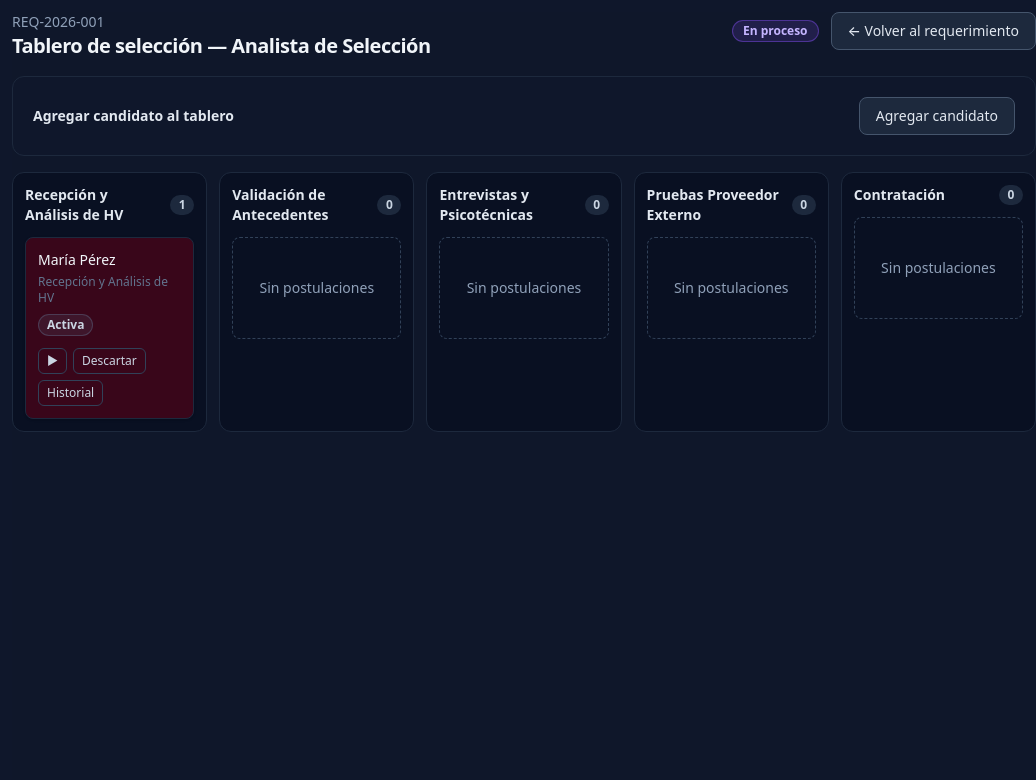
tablero Kanban (panel de historial) › abrir el historial pinta las entradas del fixture con antes → después
Click the button "Historial". click: [71, 393]
box: left=38, top=380, right=103, bottom=406
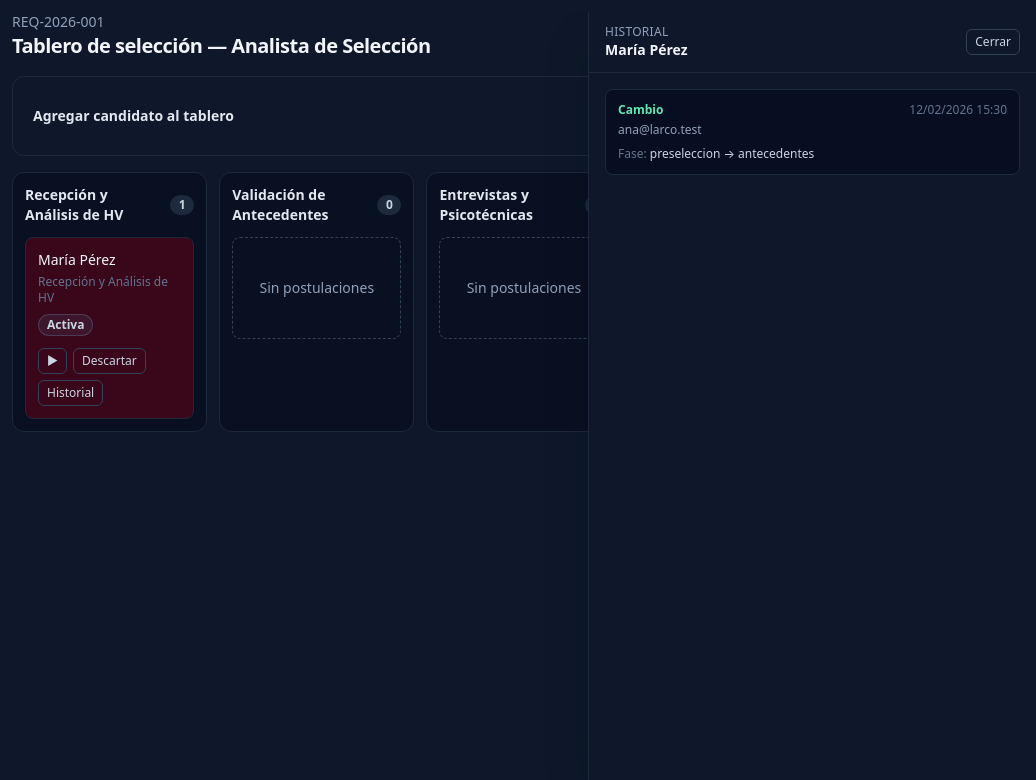
Now the text "Cambio" is shown, box left=618, top=102, right=663, bottom=118
Now the list item "Fase: preseleccion → antecedentes" is shown, box left=618, top=145, right=814, bottom=162
Now the text "ana@larco.test" is shown, box left=618, top=121, right=702, bottom=138
